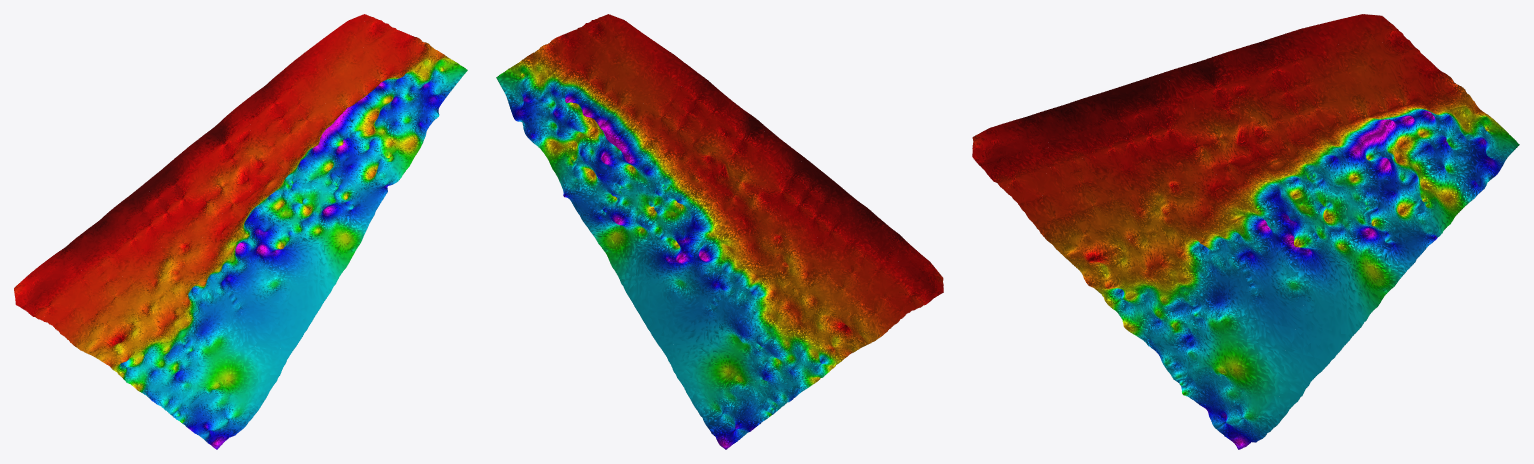
Rendered from Topo_Campaniano.glb.
3 renders of one model, left to right at view 1: azimuth 30°, elevation 25°; view 2: azimuth 150°, elevation 25°; view 3: azimuth 330°, elevation 25°, orthographic. The views are drawn at different scales.
Visible parts, largest first — view 1: Surface; view 2: Surface; view 3: Surface.
Boxes of the visible parts, x1,y1,x2,y2 form: Surface: (14,14,467,449); Surface: (496,14,943,449); Surface: (972,14,1519,449).
Bounding box in the file's own units: 389500 × 333500 × 28731.
1 material, 1 textured.
